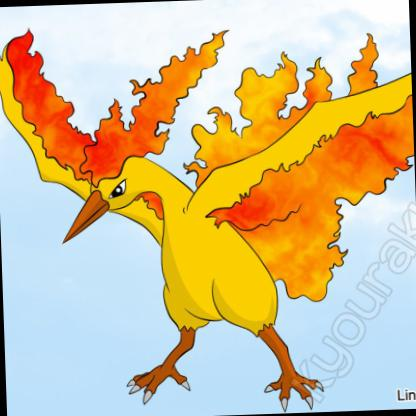Moltres: (1, 1, 407, 416)
